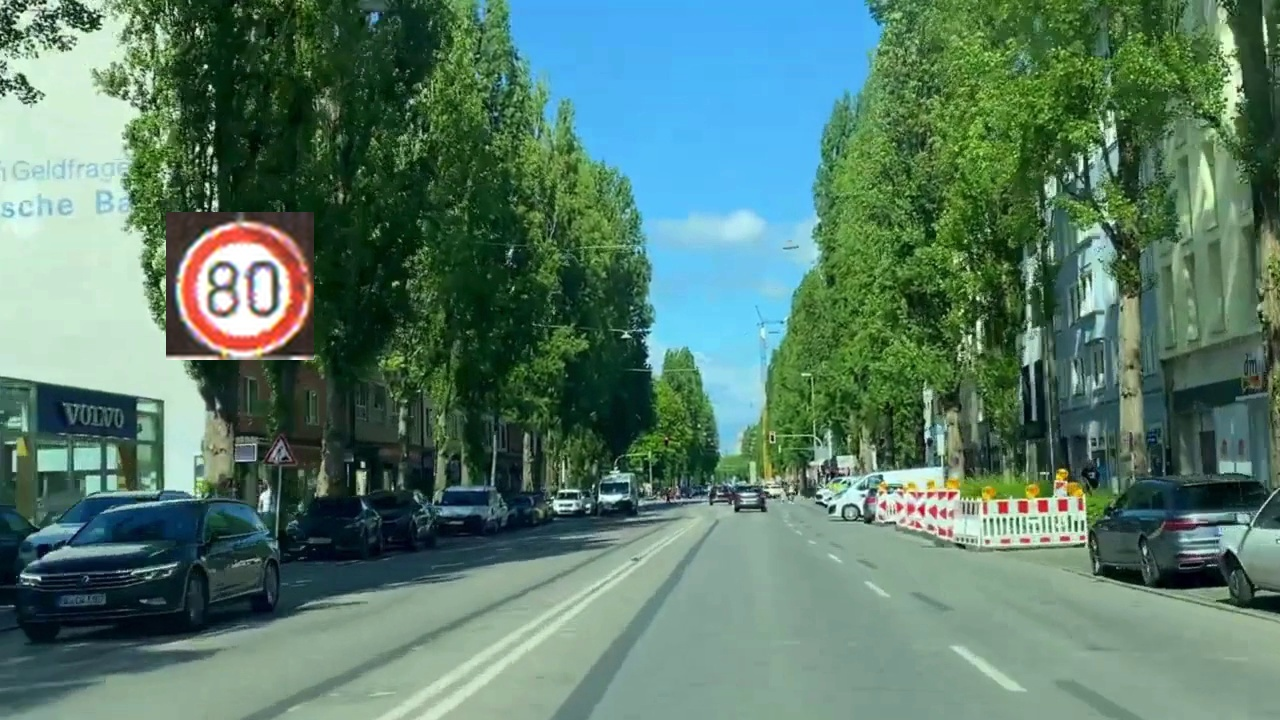Speed 80: (166, 212, 314, 360)
